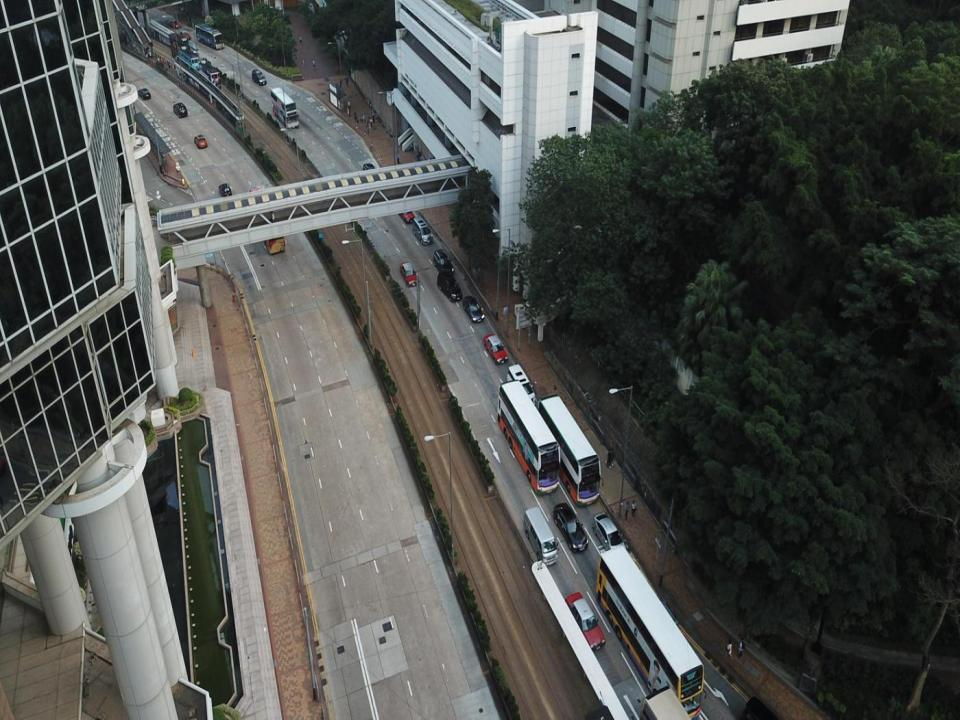bus: (596, 546, 704, 716), (498, 380, 560, 494), (539, 395, 603, 505), (249, 186, 285, 253), (271, 87, 299, 128), (195, 23, 225, 50), (199, 62, 221, 89), (178, 48, 199, 70)
car: (565, 592, 605, 651), (553, 502, 588, 552), (593, 512, 627, 556), (484, 334, 508, 364), (463, 296, 485, 323), (400, 262, 420, 286), (363, 164, 380, 185), (397, 203, 415, 222), (173, 102, 188, 118), (194, 134, 207, 149), (219, 183, 232, 196), (138, 88, 151, 100), (169, 18, 180, 27), (180, 30, 191, 39)
van: (522, 507, 560, 567), (506, 364, 536, 408), (437, 272, 463, 302), (413, 216, 433, 245), (433, 249, 454, 276), (252, 69, 266, 86)
